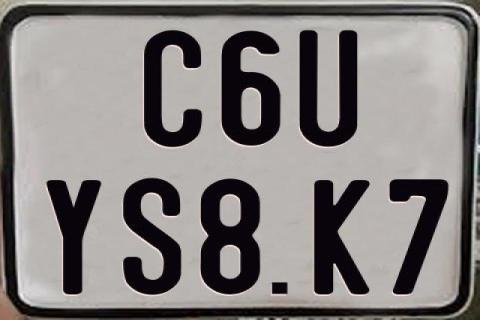0: (389, 179, 454, 297), (197, 176, 257, 296), (219, 30, 279, 146)
C: (144, 30, 202, 152)
K: (312, 179, 373, 296)
S: (123, 177, 183, 295)
U: (296, 28, 356, 146)
Y: (45, 180, 100, 294)
